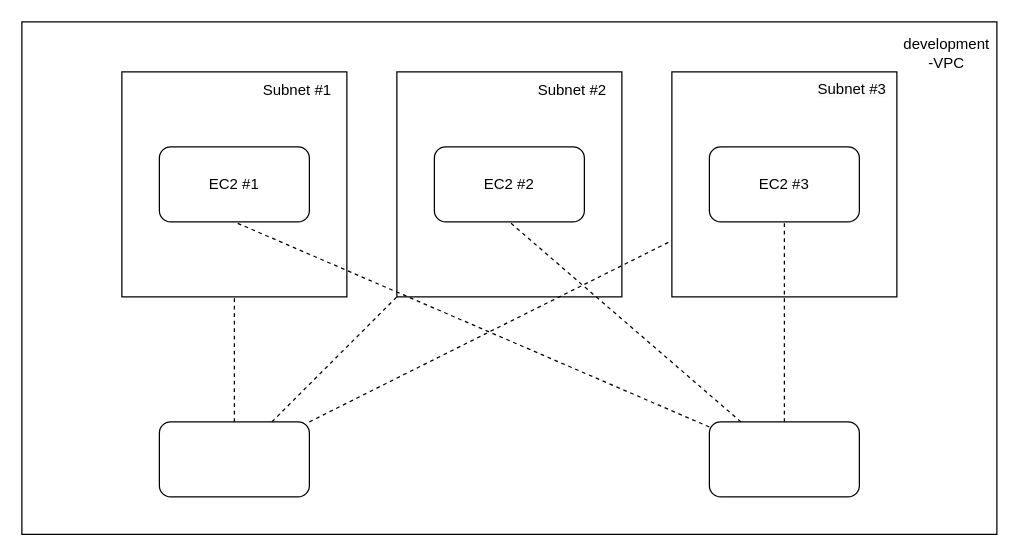
This 1019x556 diagram has some shape labels left out. Here are the shapes that lost their labels. From the top down, the centre of each, then its label:
At point (233, 459): "IGW".
At point (783, 459): "development-security-group".
